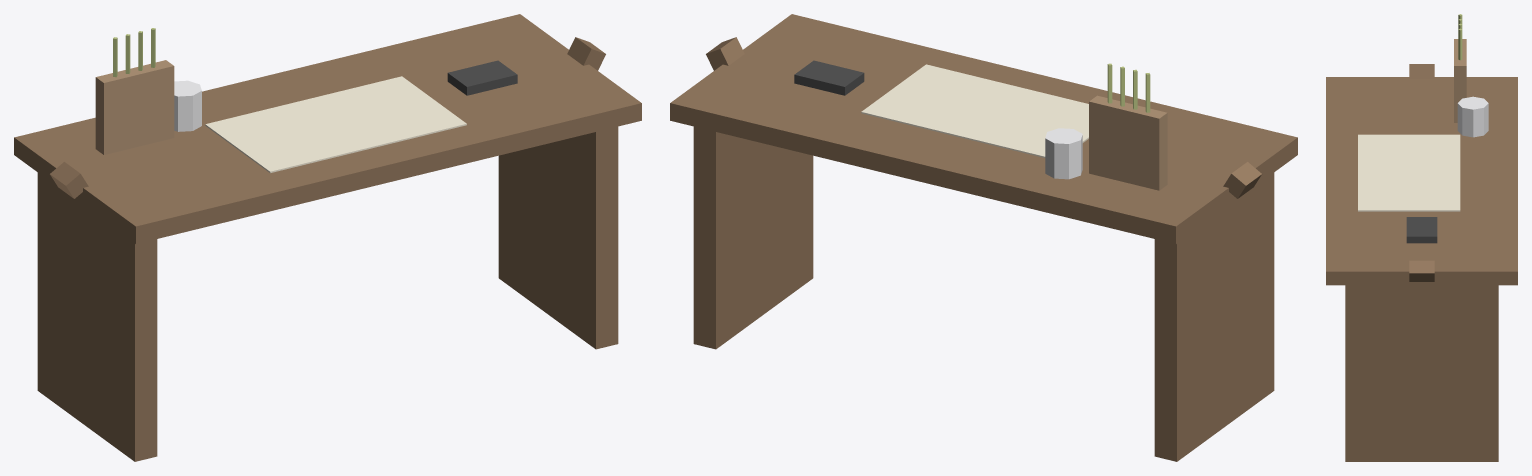
The model's file is cn_desk.glb.
3 renders of one model, left to right at view 1: azimuth 30°, elevation 25°; view 2: azimuth 150°, elevation 25°; view 3: azimuth 270°, elevation 25°, orthographic. The views are drawn at different scales.
Parts seen in each view (by area): view 1: cn_desk; view 2: cn_desk; view 3: cn_desk.
Part boxes in pixels (<box>): cn_desk: <box>14,14,641,461</box>; cn_desk: <box>670,14,1297,461</box>; cn_desk: <box>1326,14,1517,461</box>.
Size of the model in its own units: 1.92 by 1.21 by 0.7499.
